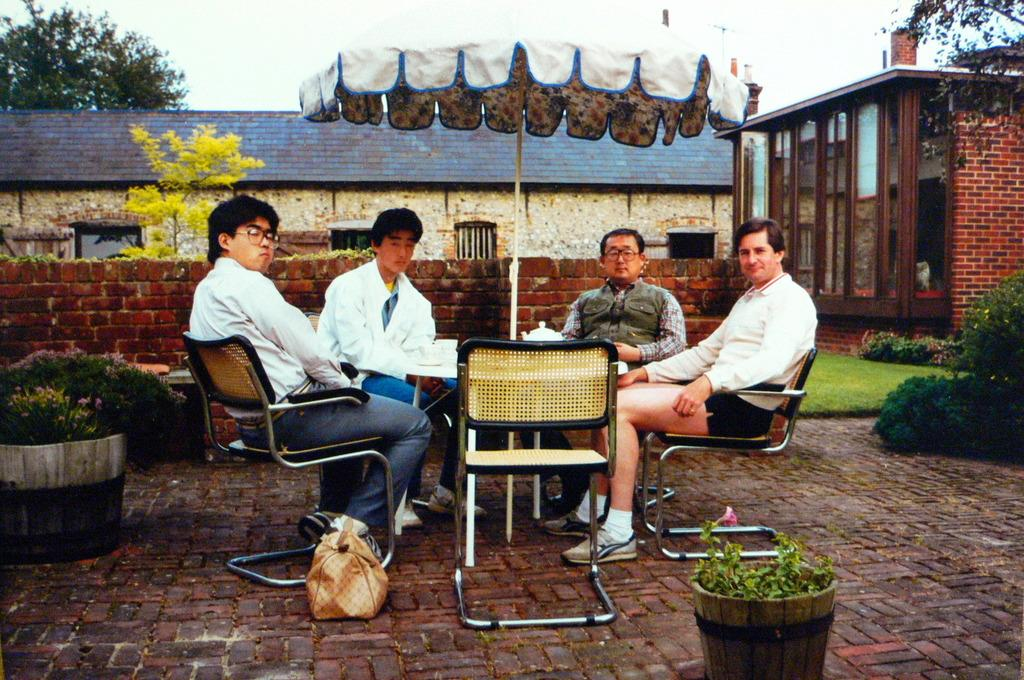Chair: (177, 334, 401, 589), (438, 332, 646, 606), (632, 344, 813, 565), (303, 312, 459, 538), (543, 368, 673, 518)
